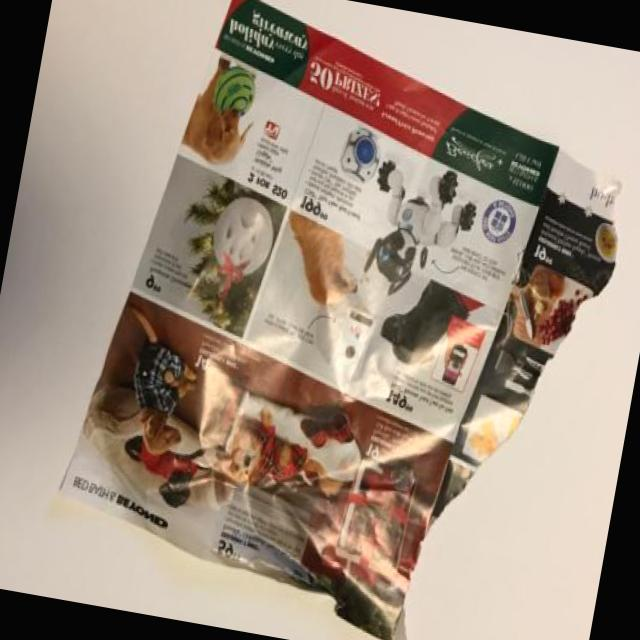paper: (76, 60, 616, 623)
